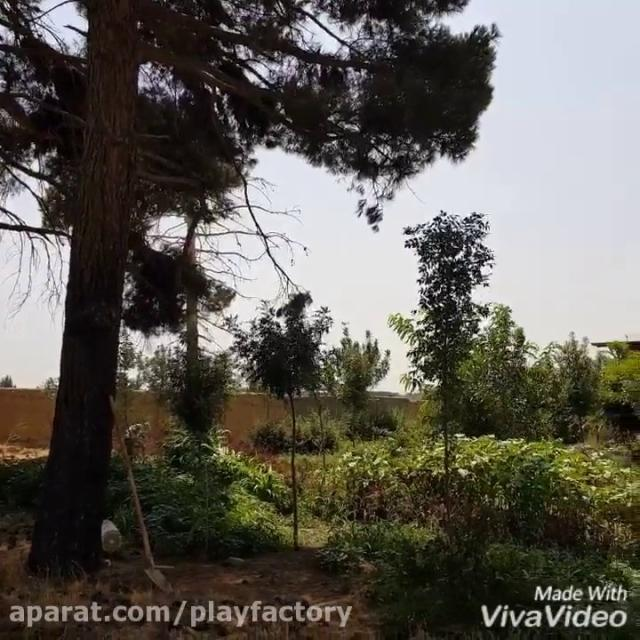drone: (340, 318, 352, 327)
